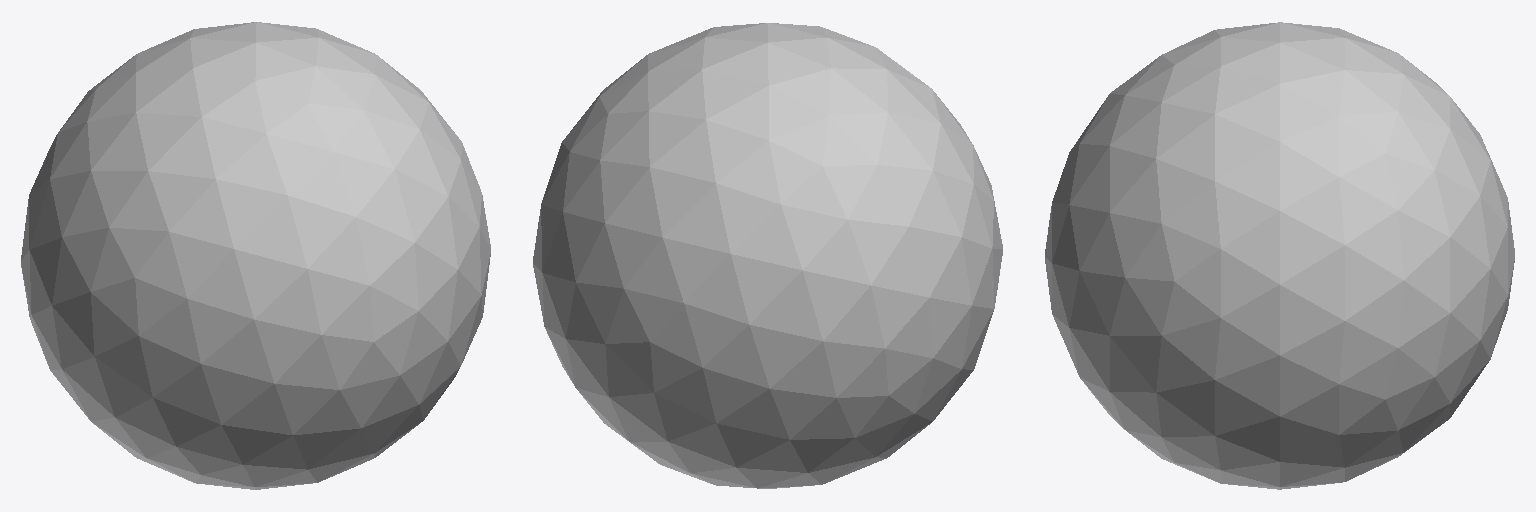
The model's file is sphere_smooth.obj.
The picture shows the model from 3 angles: view 1: azimuth 30°, elevation 25°; view 2: azimuth 150°, elevation 25°; view 3: azimuth 270°, elevation 25°; orthographic projection.
Visible parts, largest first — view 1: Icosphere; view 2: Icosphere; view 3: Icosphere.
Part boxes in pixels (bbox=[...]): Icosphere: bbox=[21, 22, 490, 489]; Icosphere: bbox=[533, 23, 1002, 488]; Icosphere: bbox=[1045, 22, 1514, 489].
Size of the model in its own units: 2 by 2 by 2.